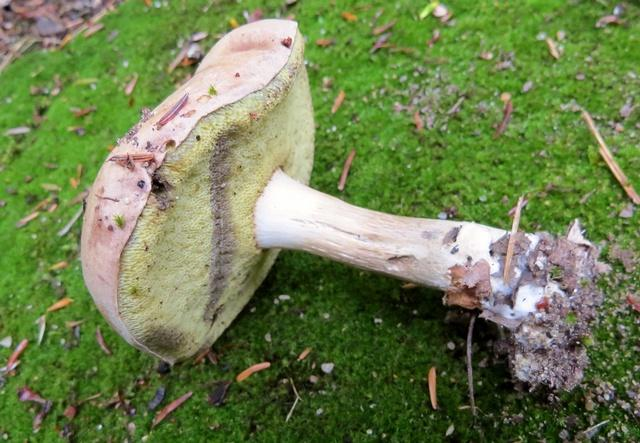edible_mushroom: (78, 16, 600, 380)
